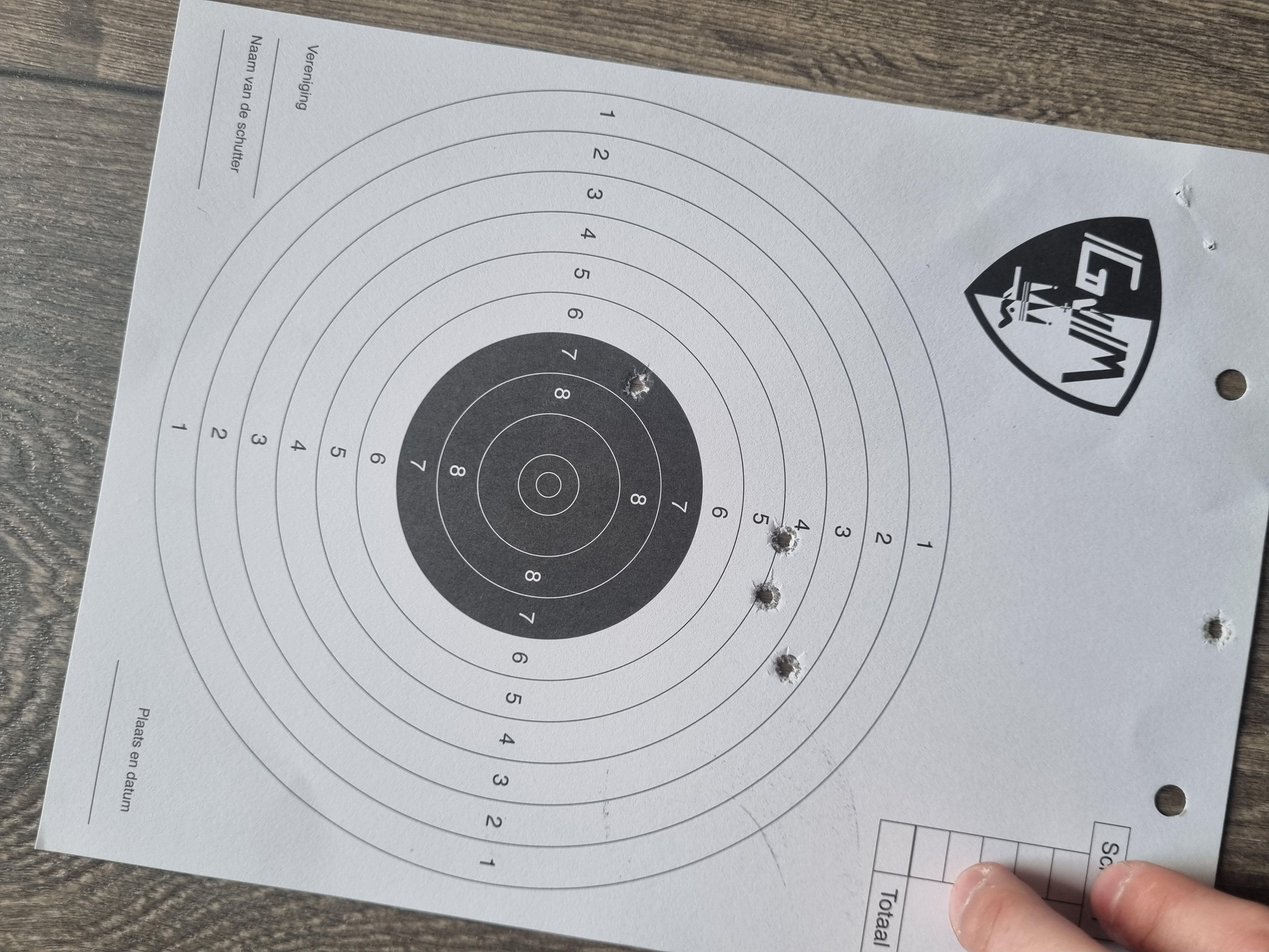hole: (454, 563, 510, 586), (529, 576, 578, 599), (735, 467, 785, 489), (407, 902, 456, 923), (358, 578, 399, 601)
